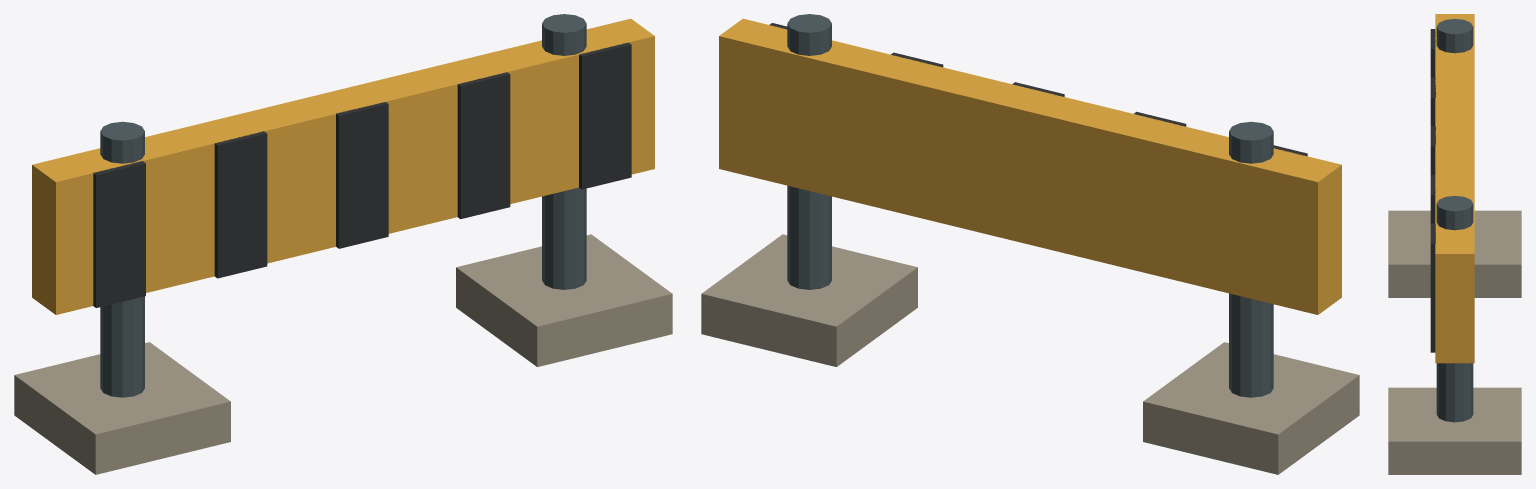
The model's file is 049_road_barricade.glb.
The picture shows the model from 3 angles, left to right: view 1: azimuth 30°, elevation 25°; view 2: azimuth 150°, elevation 25°; view 3: azimuth 270°, elevation 25°; orthographic projection. The views are drawn at different scales.
Parts seen in each view (by area): view 1: Road barricade; view 2: Road barricade; view 3: Road barricade.
Part boxes in pixels (x1,y1,x2,y2): Road barricade: (14,14,672,474); Road barricade: (701,14,1359,474); Road barricade: (1388,14,1521,474).
Size of the model in its own units: 2.17 by 1.03 by 0.51.
